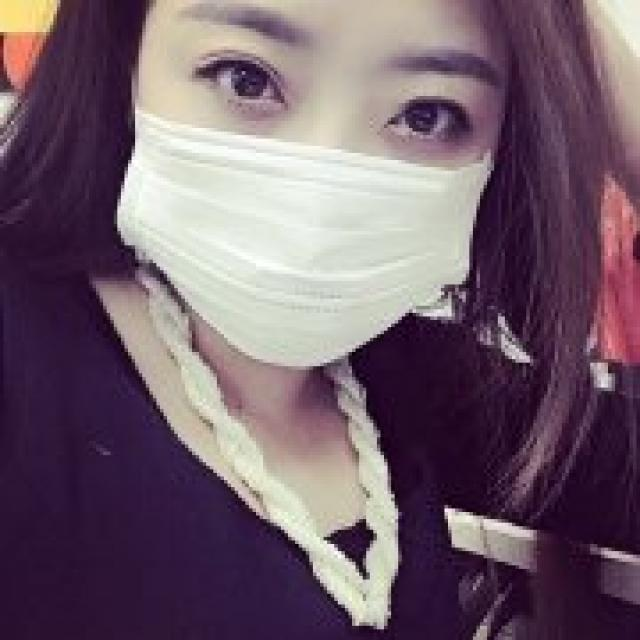mask: (132, 0, 502, 366)
